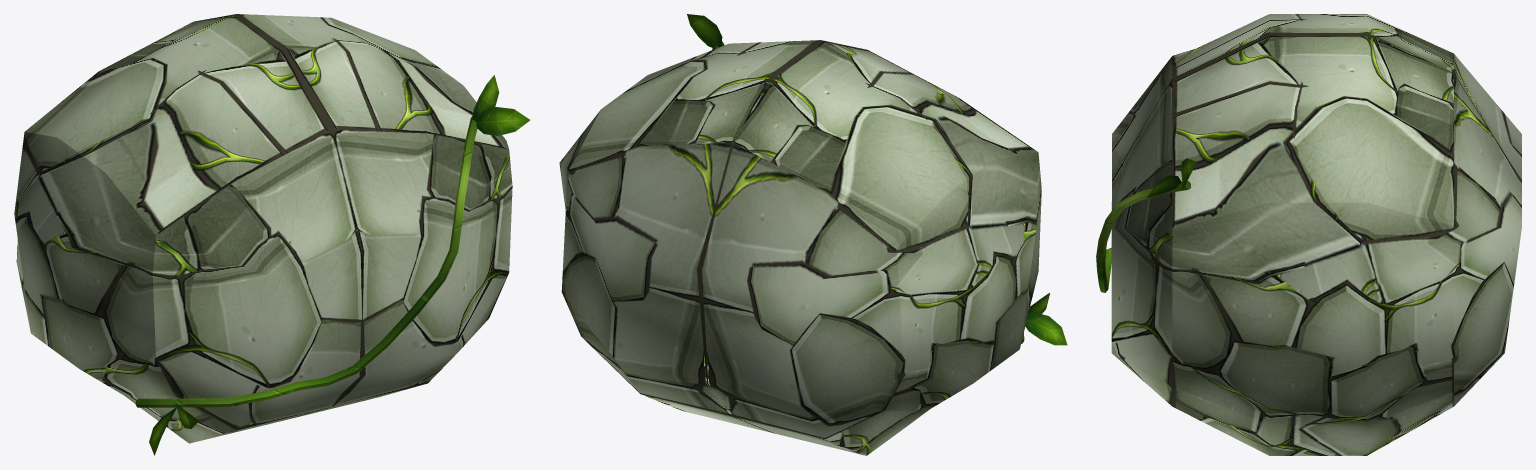
The model's file is Golem_stone_01.FBX.
3 renders of one model, left to right at view 1: azimuth 30°, elevation 25°; view 2: azimuth 150°, elevation 25°; view 3: azimuth 270°, elevation 25°, orthographic. The views are drawn at different scales.
Parts seen in each view (by area): view 1: 돌; view 2: 돌; view 3: 돌.
Part boxes in pixels (box(x1,y1,x2,y2)): 돌: box(14, 14, 530, 455); 돌: box(559, 14, 1067, 455); 돌: box(1096, 14, 1521, 455).
Size of the model in its own units: 57.62 by 46.02 by 47.31.
1 material, 1 textured.
